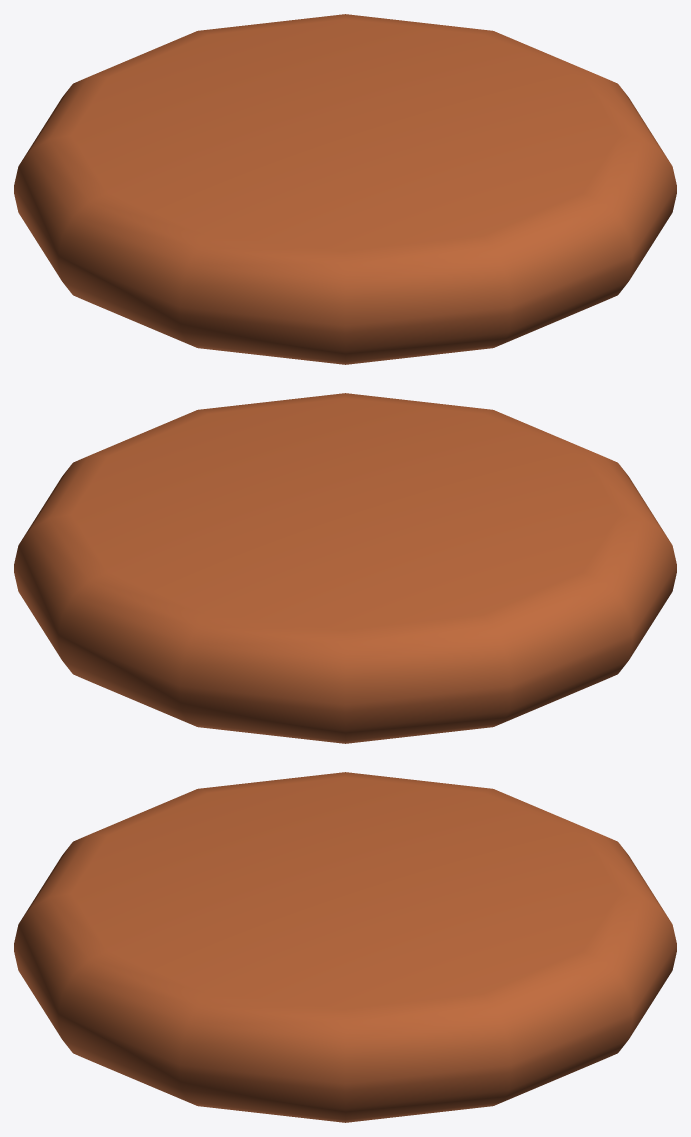
File: PumpkinBase.fbx
3 views of the same model, one above another, from view 1: azimuth 30°, elevation 25°; view 2: azimuth 150°, elevation 25°; view 3: azimuth 270°, elevation 25° (orthographic).
Visible parts, largest first — view 1: DirtFX.007; view 2: DirtFX.007; view 3: DirtFX.007.
Boxes of the visible parts, bbox=[...] form: DirtFX.007: bbox=[14, 14, 676, 364]; DirtFX.007: bbox=[14, 393, 676, 743]; DirtFX.007: bbox=[14, 772, 676, 1122].
Bounding box in the file's own units: 0.5086 × 0.0916 × 0.5086.
